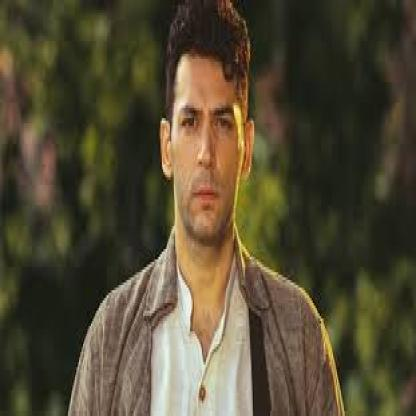person: (154, 0, 256, 248)
